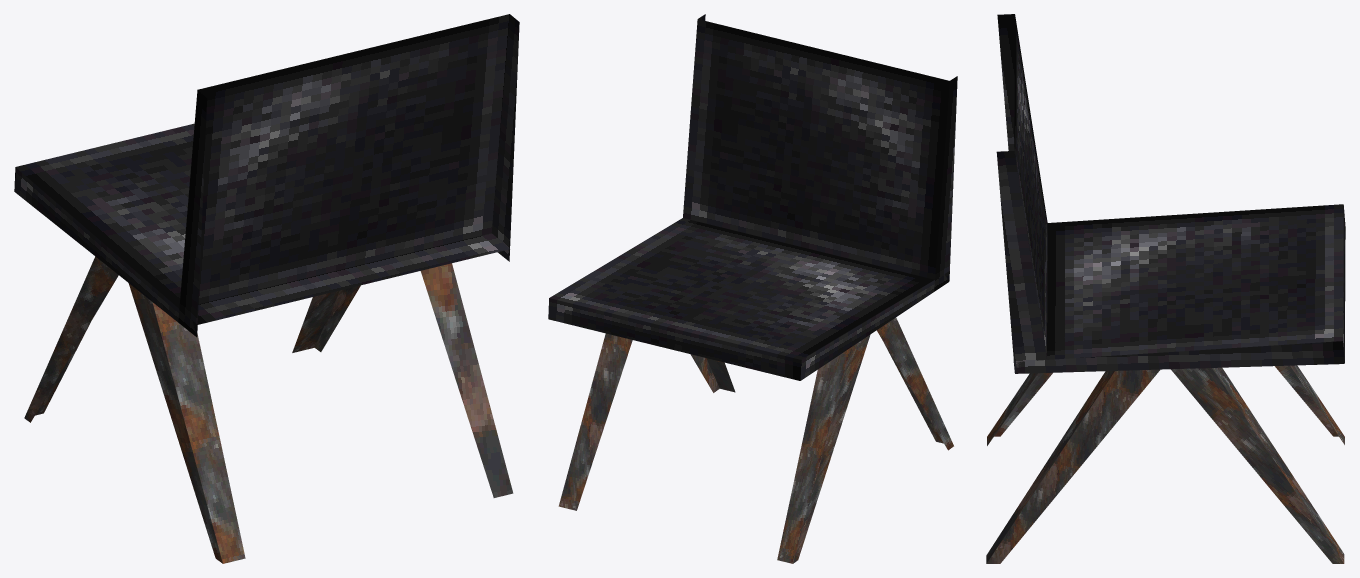
Rendered from primary_264.glb.
3 renders of one model, left to right at view 1: azimuth 30°, elevation 25°; view 2: azimuth 150°, elevation 25°; view 3: azimuth 270°, elevation 25°, orthographic. The views are drawn at different scales.
Visible parts, largest first — view 1: Object; view 2: Object; view 3: Object.
Part boxes in pixels (bbox=[...]): Object: bbox=[14, 14, 519, 563]; Object: bbox=[548, 14, 957, 563]; Object: bbox=[986, 14, 1345, 563].
Size of the model in its own units: 0.628 by 0.8928 by 0.6947.
Materials: 2 (2 with a texture image).
